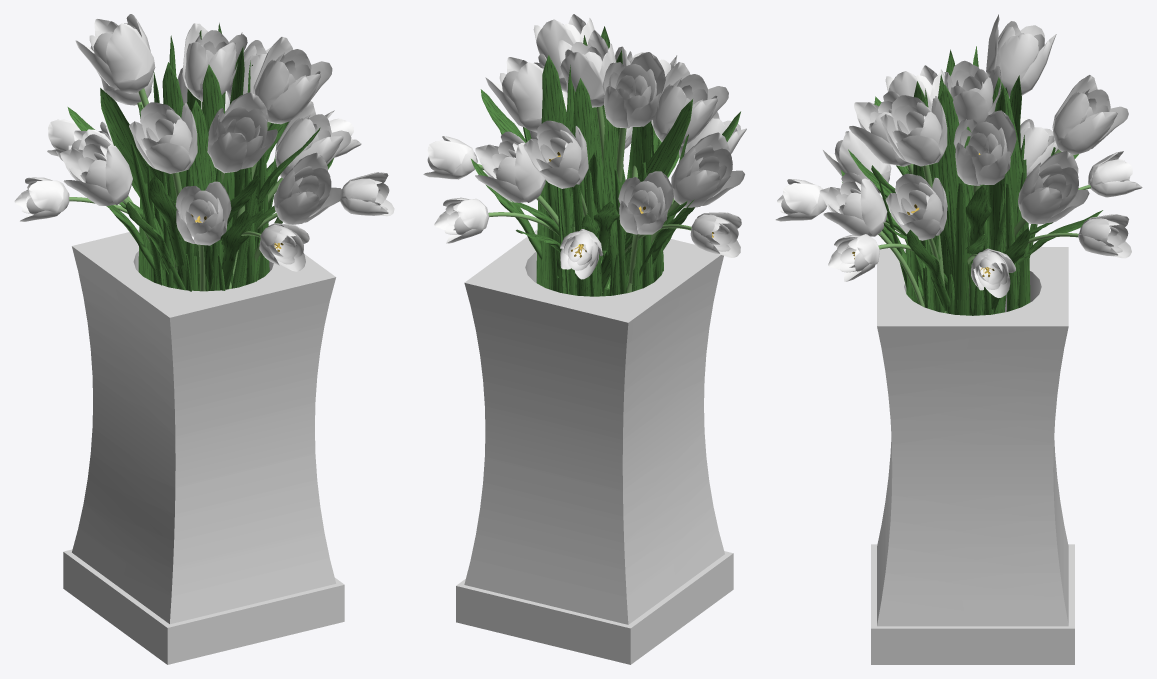
File: additional_013.glb
3 views of the same model, side by side, from view 1: azimuth 30°, elevation 25°; view 2: azimuth 150°, elevation 25°; view 3: azimuth 270°, elevation 25° (orthographic). The views are drawn at different scales.
Parts seen in each view (by area): view 1: 3DGeom-1, 3DGeom-2, 3DGeom-5 (×8), 3DGeom-4 (×4), 3DGeom-412, 3DGeom-436, 3DGeom-340, 3DGeom-459, 3DGeom-389, 3DGeom-498, 3DGeom-488, 3DGeom-515 (+16 smaller); view 2: 3DGeom-1, 3DGeom-5 (×9), 3DGeom-2, 3DGeom-4 (×6), 3DGeom-459, 3DGeom-412, 3DGeom-364, 3DGeom-518, 3DGeom-389, 3DGeom-498, 3DGeom-497, 3DGeom-499 (+15 smaller); view 3: 3DGeom-1, 3DGeom-5 (×11), 3DGeom-2, 3DGeom-4 (×5), 3DGeom-364, 3DGeom-436, 3DGeom-412, 3DGeom-475, 3DGeom-389, 3DGeom-486, 3DGeom-6 (×2), 3DGeom-499 (+15 smaller).
Boxes of the visible parts, x1=… form: 3DGeom-1: x1=72, y1=229, x2=336, y2=624; 3DGeom-2: x1=63, y1=549, x2=344, y2=664; 3DGeom-5 (×8): x1=14, y1=100, x2=394, y2=271; 3DGeom-4 (×4): x1=69, y1=146, x2=331, y2=264; 3DGeom-412: x1=75, y1=14, x2=150, y2=86; 3DGeom-436: x1=255, y1=37, x2=332, y2=121; 3DGeom-340: x1=209, y1=92, x2=277, y2=171; 3DGeom-459: x1=129, y1=102, x2=197, y2=173; 3DGeom-389: x1=183, y1=23, x2=247, y2=94; 3DGeom-498: x1=100, y1=88, x2=162, y2=221; 3DGeom-488: x1=190, y1=100, x2=215, y2=291; 3DGeom-515: x1=149, y1=176, x2=186, y2=271; 3DGeom-1: x1=464, y1=229, x2=724, y2=624; 3DGeom-5 (×9): x1=423, y1=118, x2=746, y2=279; 3DGeom-2: x1=456, y1=551, x2=733, y2=664; 3DGeom-4 (×6): x1=482, y1=130, x2=738, y2=270; 3DGeom-459: x1=653, y1=62, x2=728, y2=143; 3DGeom-412: x1=603, y1=52, x2=665, y2=128; 3DGeom-364: x1=485, y1=53, x2=546, y2=124; 3DGeom-518: x1=572, y1=78, x2=603, y2=296; 3DGeom-389: x1=557, y1=30, x2=616, y2=99; 3DGeom-498: x1=601, y1=99, x2=692, y2=291; 3DGeom-497: x1=602, y1=118, x2=626, y2=295; 3DGeom-499: x1=541, y1=55, x2=566, y2=292; 3DGeom-1: x1=877, y1=247, x2=1068, y2=626; 3DGeom-5 (×11): x1=775, y1=75, x2=1142, y2=297; 3DGeom-2: x1=871, y1=544, x2=1074, y2=664; 3DGeom-4 (×5): x1=828, y1=163, x2=1078, y2=289; 3DGeom-364: x1=953, y1=110, x2=1016, y2=185; 3DGeom-436: x1=880, y1=95, x2=947, y2=166; 3DGeom-412: x1=986, y1=14, x2=1056, y2=89; 3DGeom-475: x1=938, y1=84, x2=960, y2=283; 3DGeom-389: x1=944, y1=60, x2=1001, y2=123; 3DGeom-486: x1=954, y1=183, x2=969, y2=315; 3DGeom-6 (×2): x1=1052, y1=107, x2=1135, y2=197; 3DGeom-499: x1=983, y1=87, x2=1005, y2=315.
Size of the model in its own units: 0.241 by 0.4149 by 0.2397.
9 materials, 1 textured.
